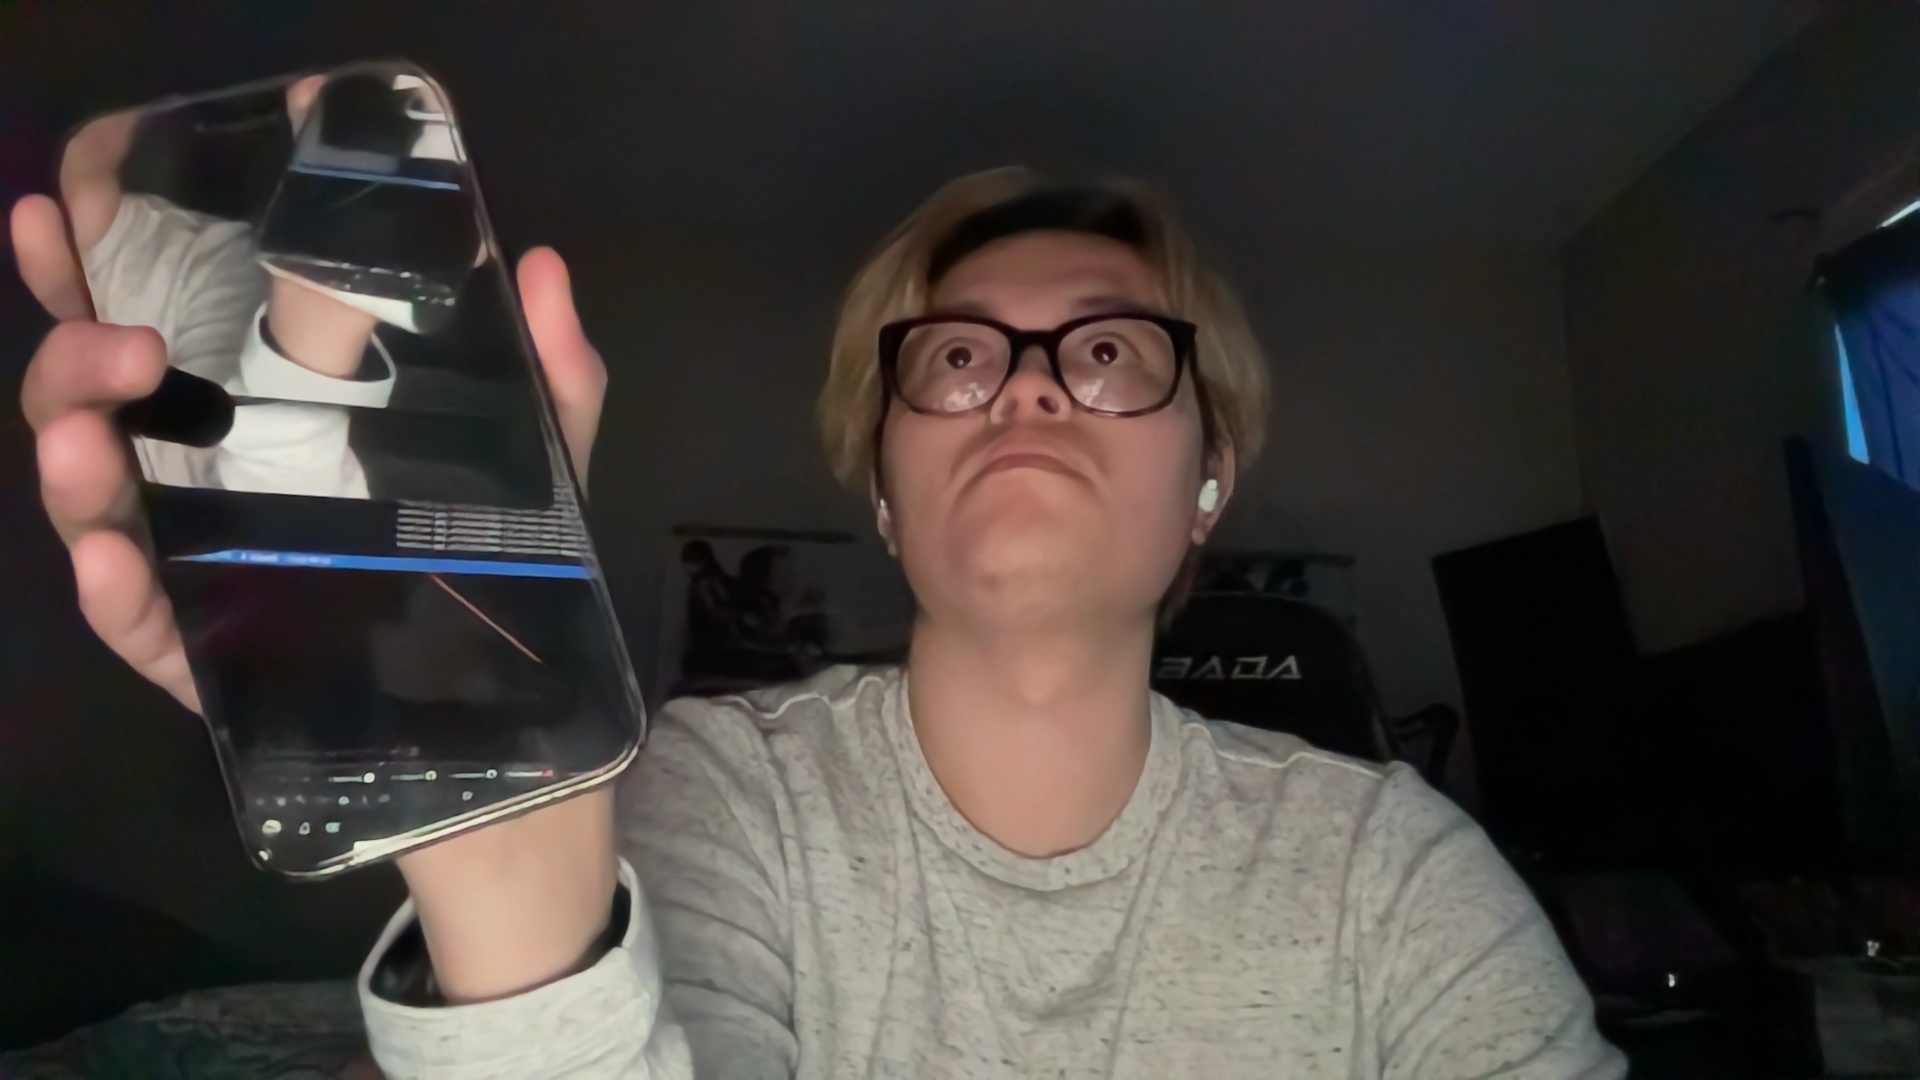phone: (12, 55, 659, 884)
